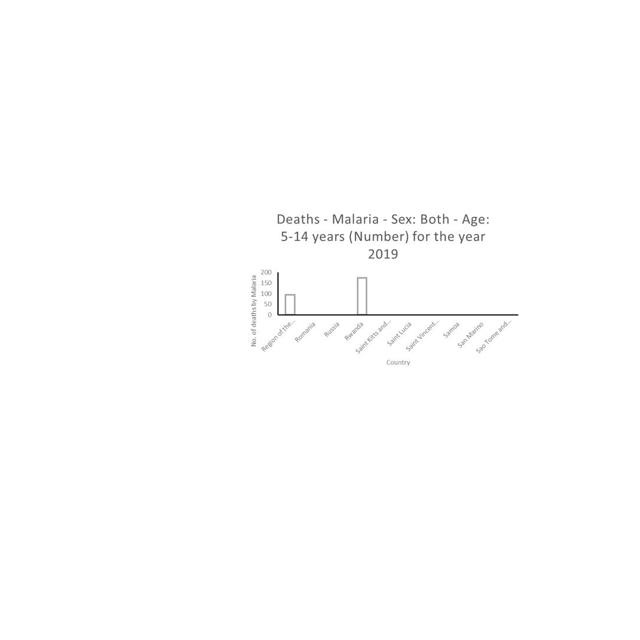Graph: (241, 207, 522, 371)
